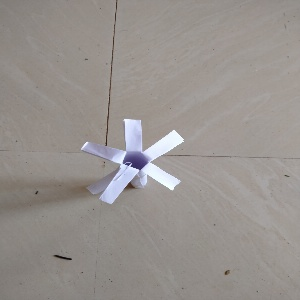weed: (76, 122, 184, 191)
